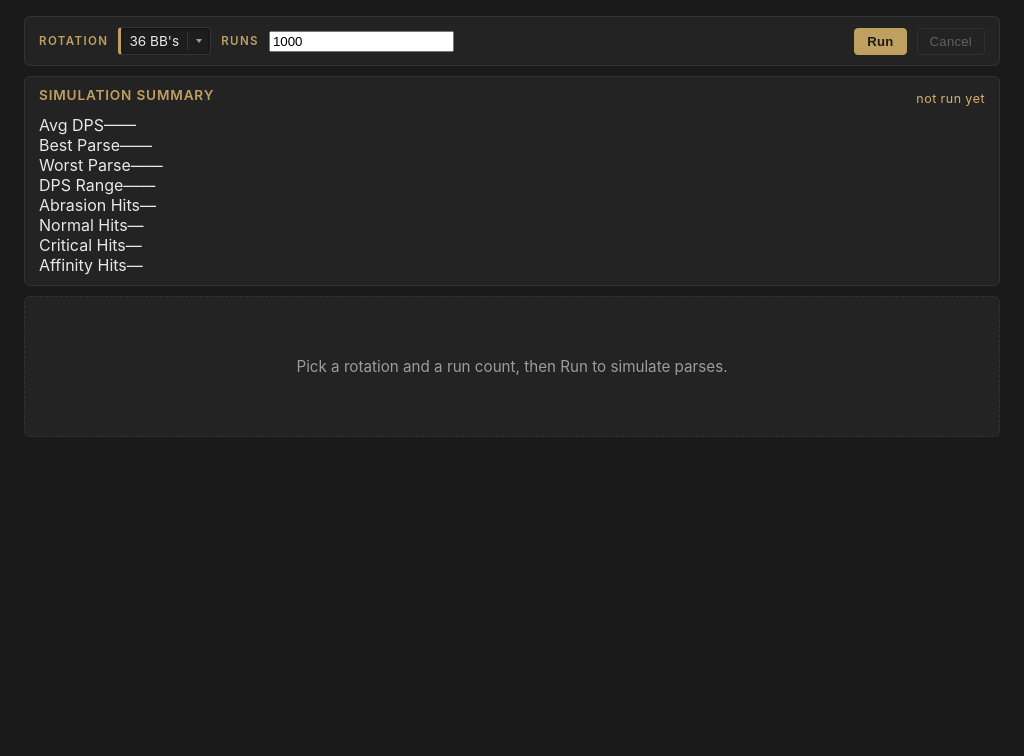
Test case: SimulationTab › shows the distribution once the runs land
This screenshot has width=1024, height=756.
What coordinates should you click on to do the following:
click the button "Run"
I would click on:
 (880, 41)
Its box is [854,28,907,55].
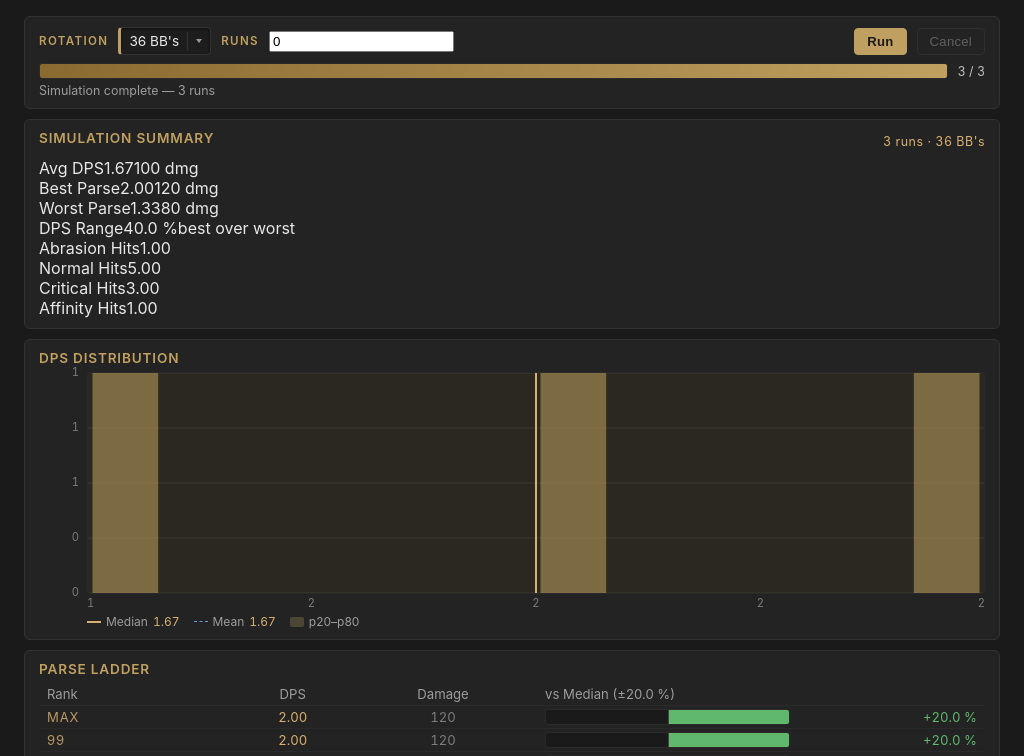
Expected: the heading "Parse Ladder" is shown, [39,661,150,677]
Expected: the heading "DPS Distribution" is shown, [39,350,179,366]
Expected: the text "3 runs · 36 BB's" is shown, [883,134,985,149]
